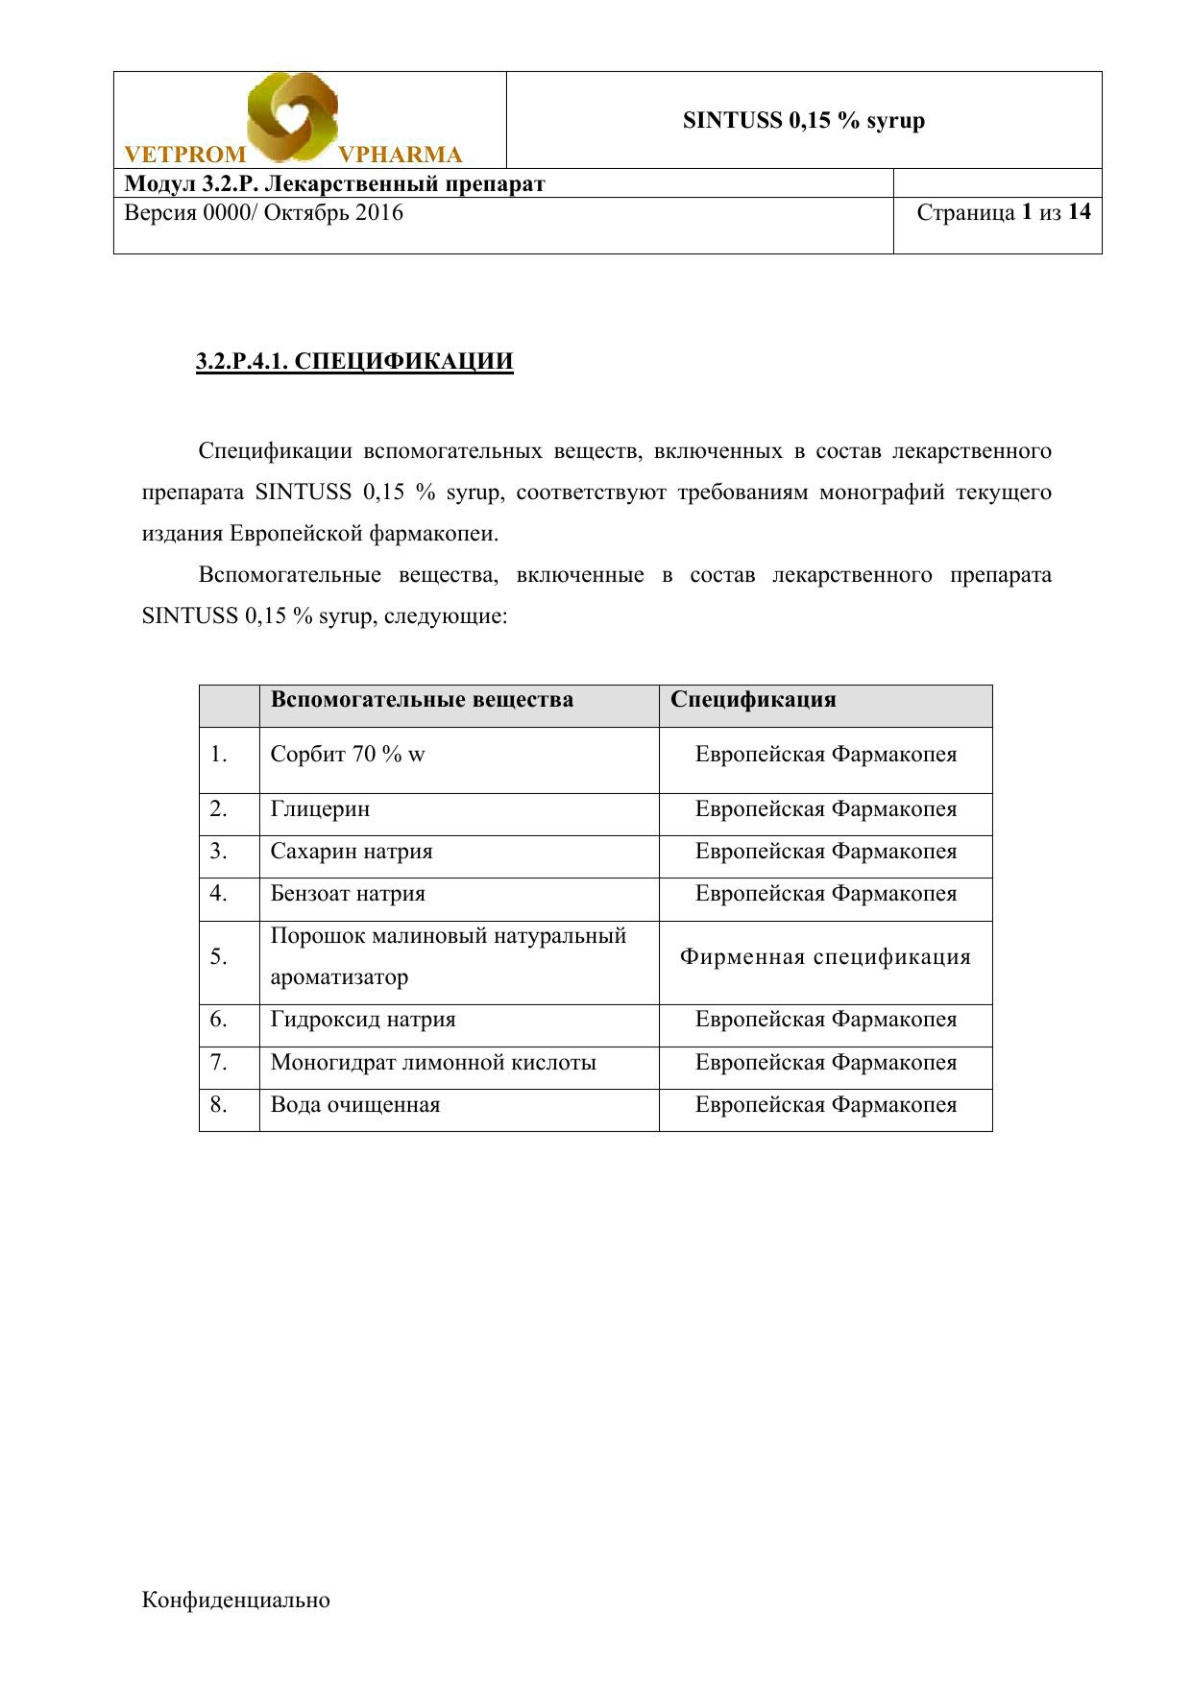full_lined: (196, 683, 993, 1134)
merged_cells: (111, 70, 1104, 257)
